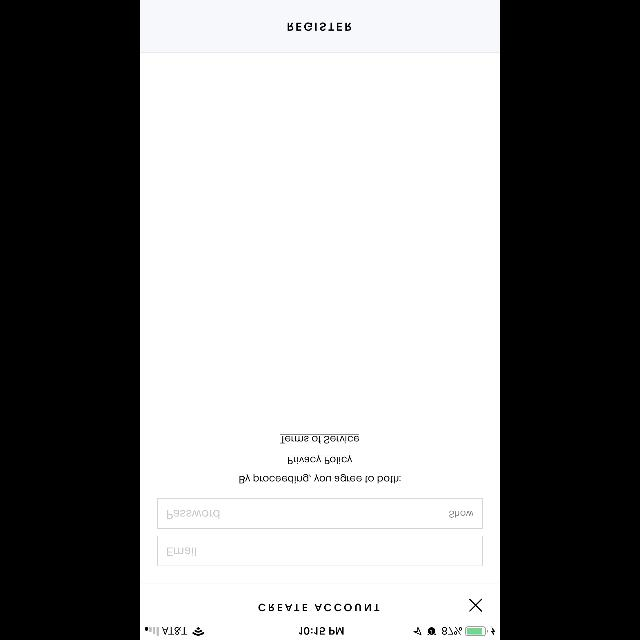icon: (470, 598, 482, 612)
input: (158, 498, 482, 528), (158, 536, 482, 566)
text: (240, 474, 400, 484), (280, 433, 360, 443), (258, 604, 379, 610), (288, 454, 352, 464), (167, 510, 219, 518), (168, 547, 196, 555), (449, 510, 473, 518)
textbutton: (140, 0, 500, 52)
uppertaskbar: (140, 626, 500, 640)
